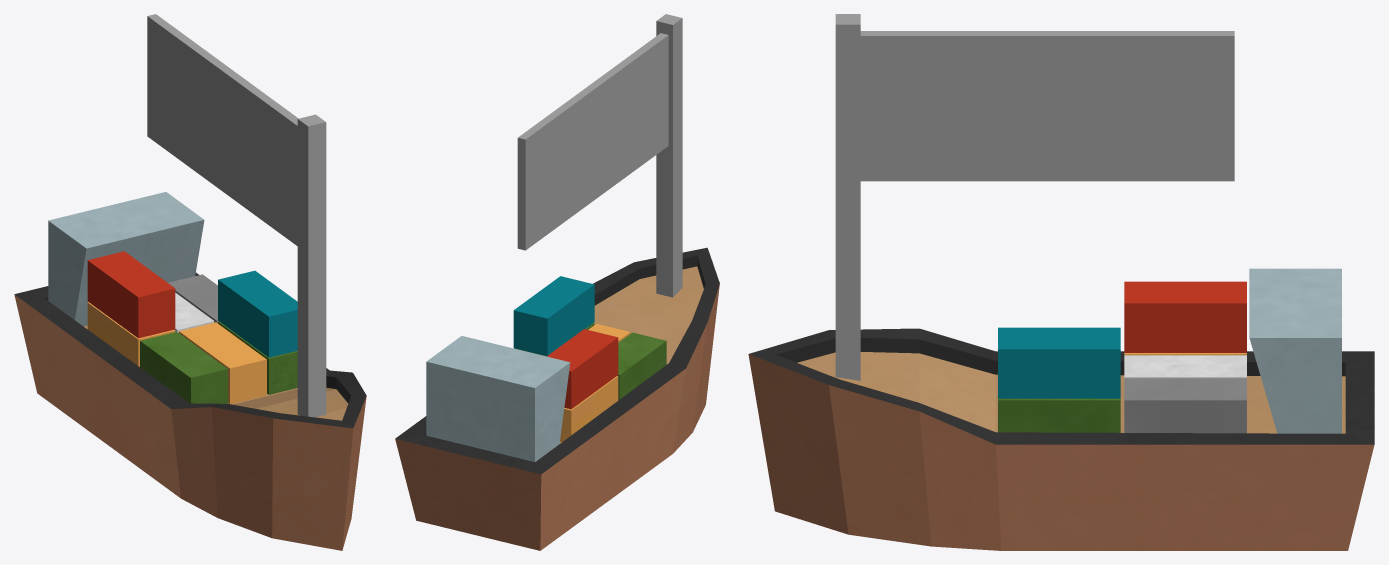
The model's file is Single Ship.fbx.
3 views of the same model, side by side, from view 1: azimuth 30°, elevation 25°; view 2: azimuth 150°, elevation 25°; view 3: azimuth 270°, elevation 25° (orthographic). The views are drawn at different scales.
Parts seen in each view (by area): view 1: single_ship, polySurface2, polySurface1; view 2: single_ship, polySurface2, polySurface1; view 3: single_ship, polySurface2, polySurface1.
Boxes of the visible parts, x1,y1,x2,y2 form: single_ship: (14,192,366,550); polySurface2: (147,14,298,245); polySurface1: (297,114,326,417); single_ship: (395,247,719,550); polySurface2: (517,33,668,250); polySurface1: (656,14,682,297); single_ship: (748,268,1374,550); polySurface2: (860,31,1234,181); polySurface1: (835,14,860,380).
Size of the model in its own units: 1.77 by 4.34 by 5.01.
